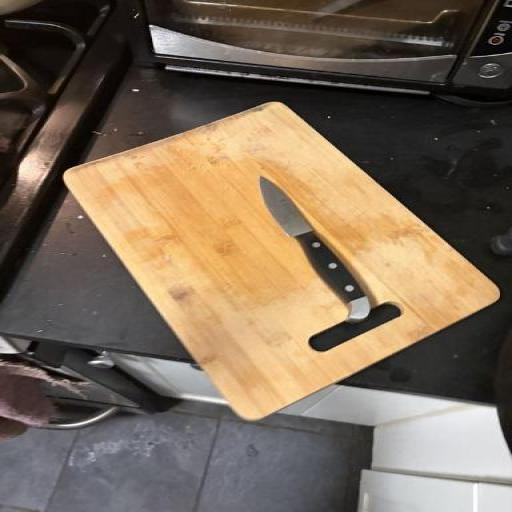knife: (250, 177, 396, 328)
